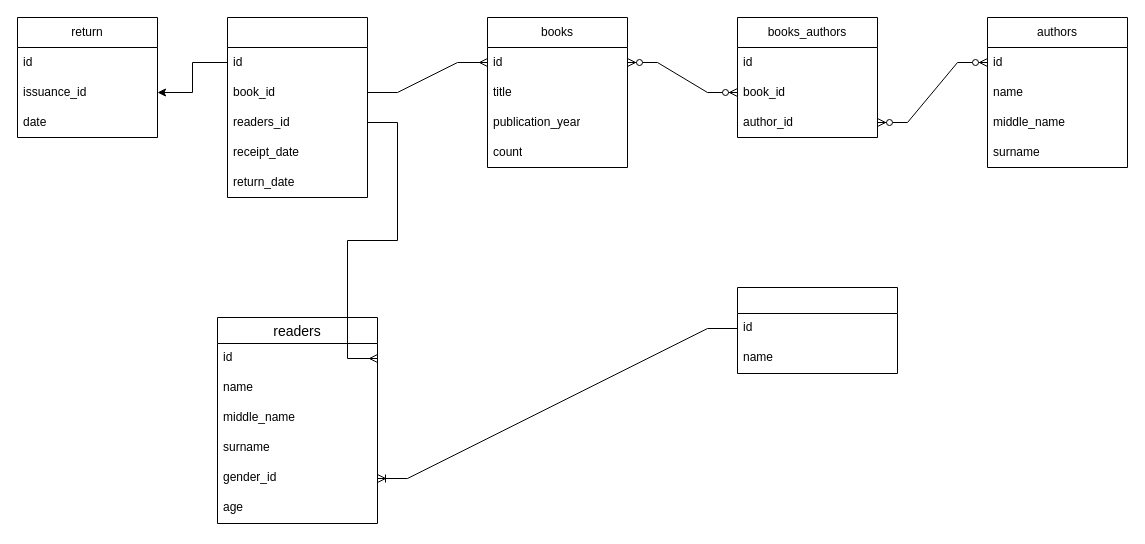
The diagram is 1145 pixels wide and 544 high, and some of its shapes have lost their labels. The shapes that lost their labels are listed below. From the top down, each one's box as (x1, y1, x2, y2) in pixels, then its label:
(226, 16, 368, 198): issuance
(736, 286, 898, 374): gender
